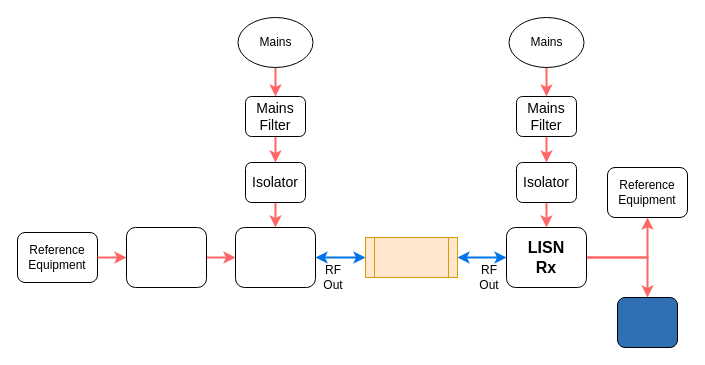
The diagram is 705 pixels wide and 365 high, and some of its shapes have lost their labels. Each missing label, with the centre of its shape:
Attenuator: (x=411, y=257)
EUT: (x=647, y=322)
LISN Tx: (x=275, y=257)
PRIME 2Ohms LISN: (x=166, y=257)
